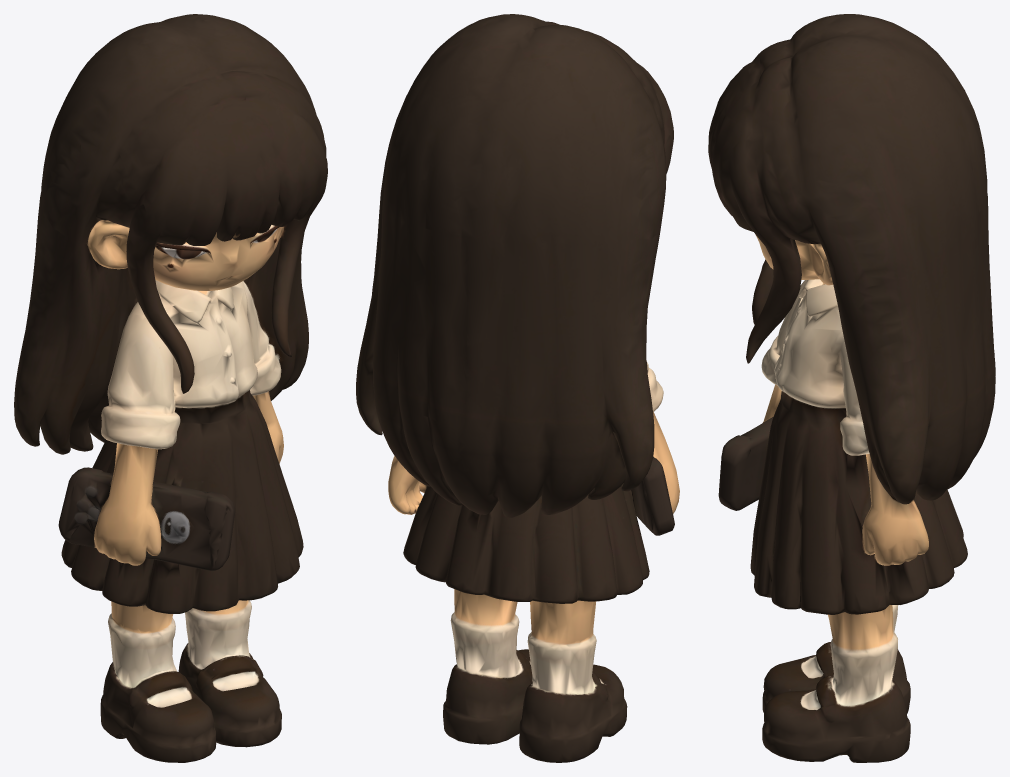
The model's file is figurine-0.glb.
3 renders of one model, left to right at view 1: azimuth 30°, elevation 25°; view 2: azimuth 150°, elevation 25°; view 3: azimuth 270°, elevation 25°, orthographic.
Visible parts, largest first — view 1: tripo_node_0a482009-84a0-4bf4-9b63-6ab32600f7c5; view 2: tripo_node_0a482009-84a0-4bf4-9b63-6ab32600f7c5; view 3: tripo_node_0a482009-84a0-4bf4-9b63-6ab32600f7c5.
Part boxes in pixels (x1,y1,x2,y2): tripo_node_0a482009-84a0-4bf4-9b63-6ab32600f7c5: [14, 14, 327, 762]; tripo_node_0a482009-84a0-4bf4-9b63-6ab32600f7c5: [356, 14, 679, 762]; tripo_node_0a482009-84a0-4bf4-9b63-6ab32600f7c5: [708, 14, 995, 762].
Size of the model in its own units: 0.4222 by 0.9795 by 0.3643.
1 material, 1 textured.
